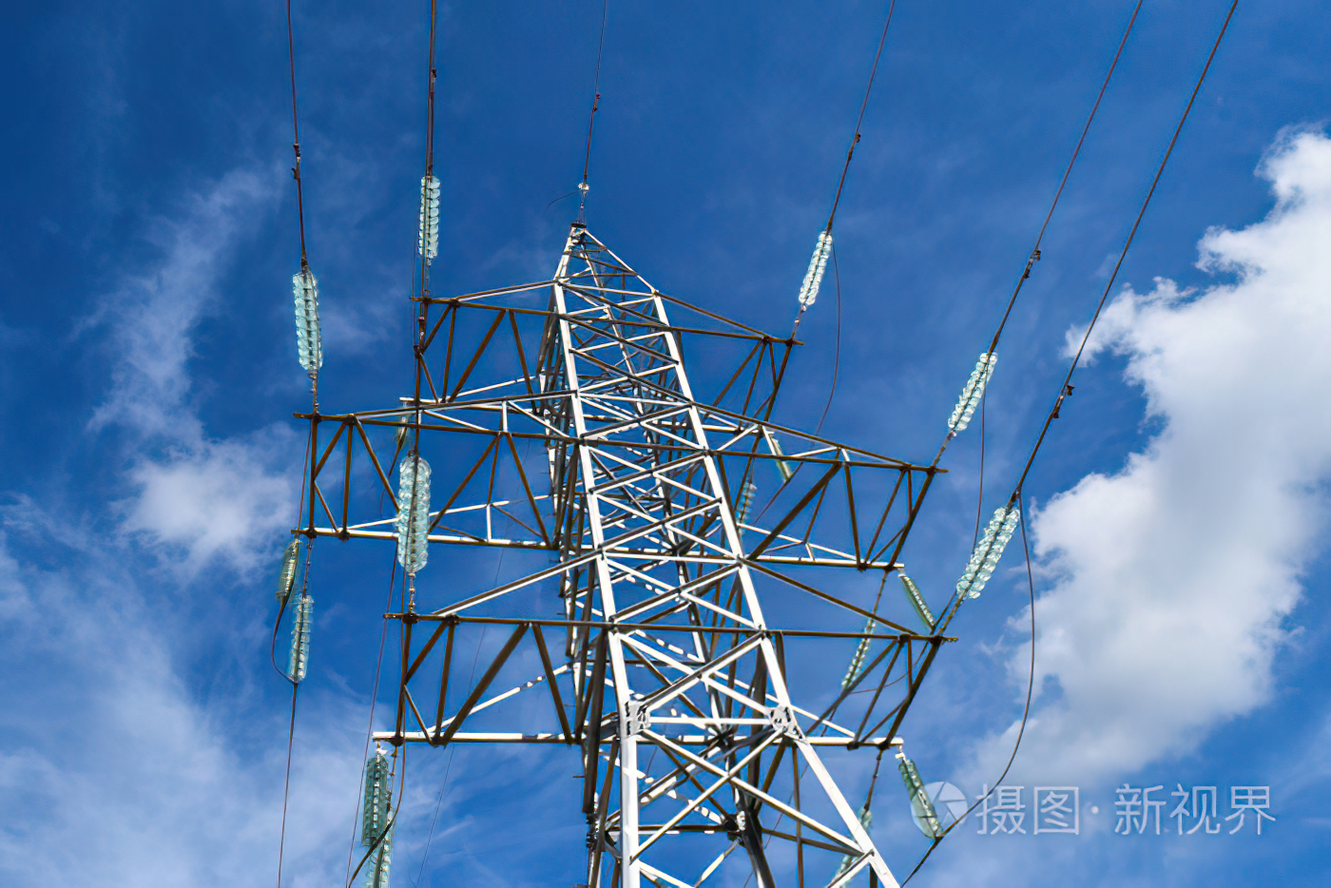insulator: (954, 508, 1018, 597), (395, 454, 432, 575), (945, 351, 996, 432), (288, 270, 327, 374), (899, 754, 943, 841), (836, 805, 877, 877), (358, 754, 392, 840), (798, 232, 835, 309), (286, 591, 317, 682), (415, 175, 445, 261), (840, 620, 873, 687), (897, 569, 936, 625), (274, 539, 299, 594), (363, 839, 391, 888), (735, 475, 760, 528)
